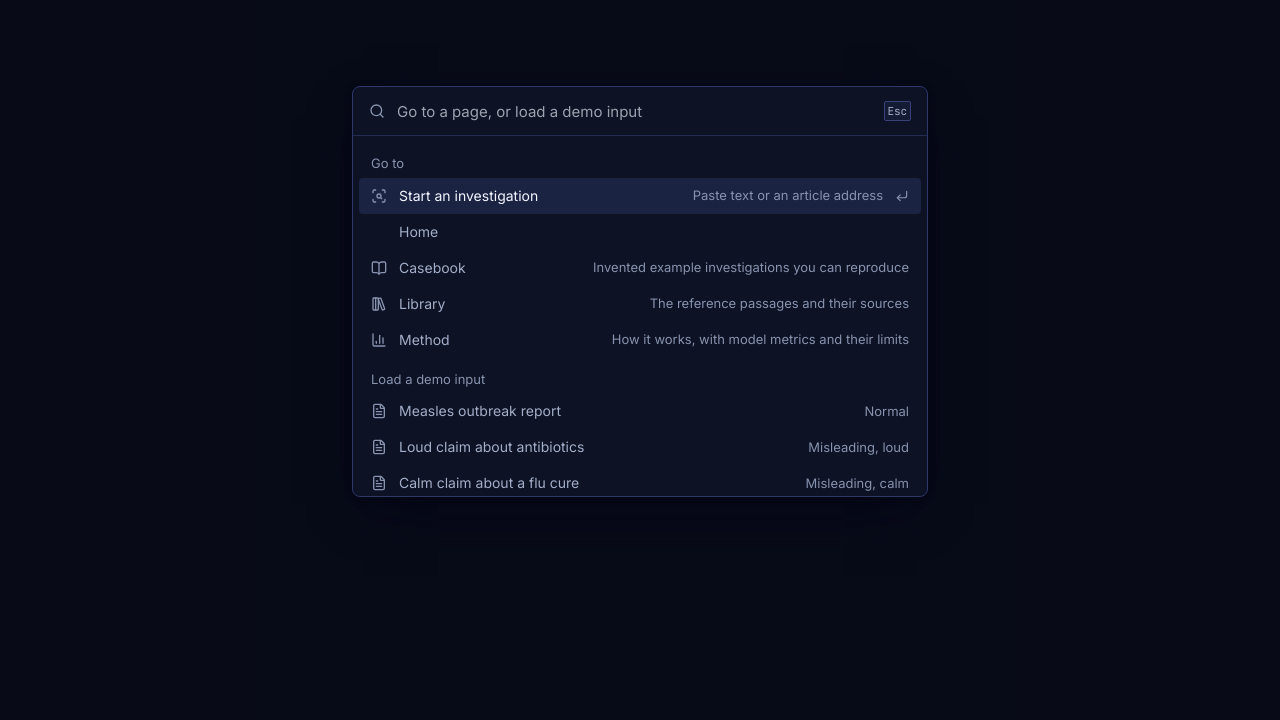
Test: CommandPalette › shows an empty message and closes with Escape
Later steps or results of the test are not shown.
Type "zzzzqq" into the dropdown at (634, 111), box [397,87,872,135]
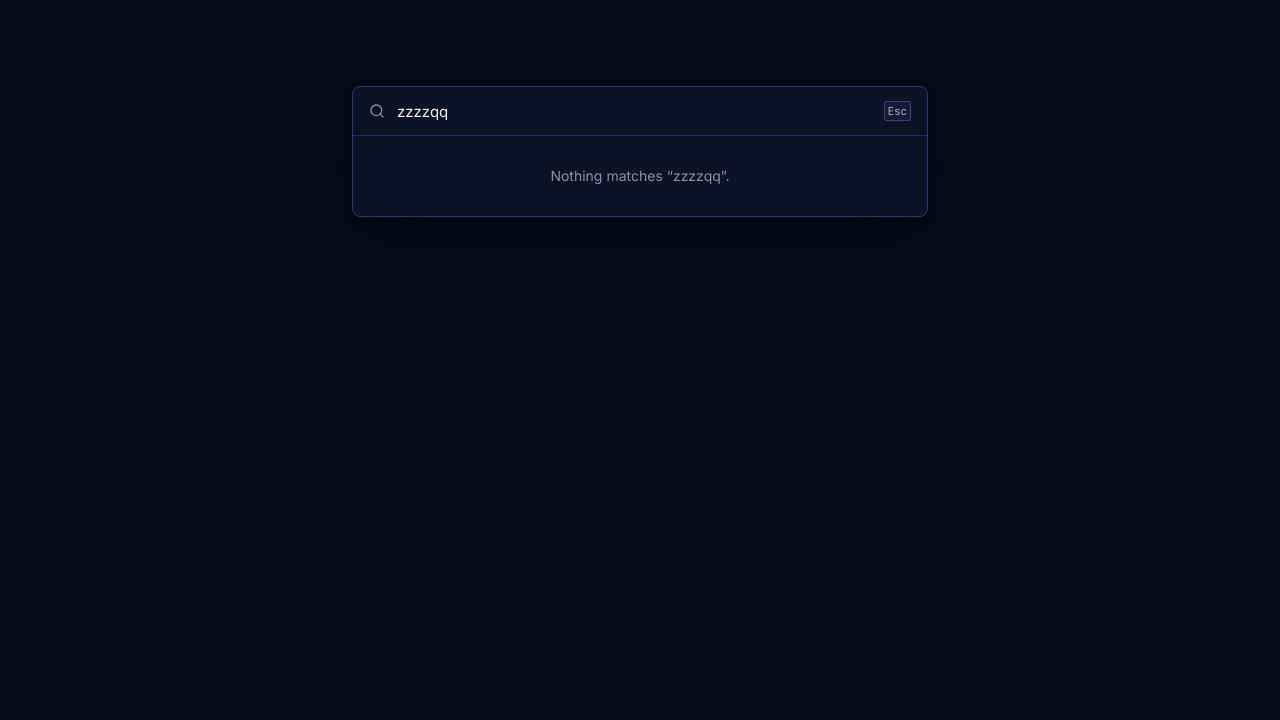
Result: the list item "Nothing matches “zzzzqq”." is shown at [550,167,730,184]
